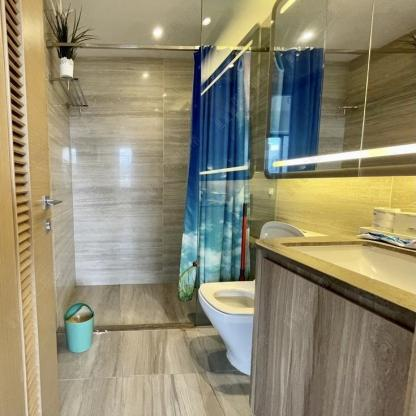Toilet: (196, 277, 255, 374), (259, 222, 329, 238)
Toilet Sink: (256, 234, 415, 314)
Water Cubicle: (46, 41, 270, 330)
